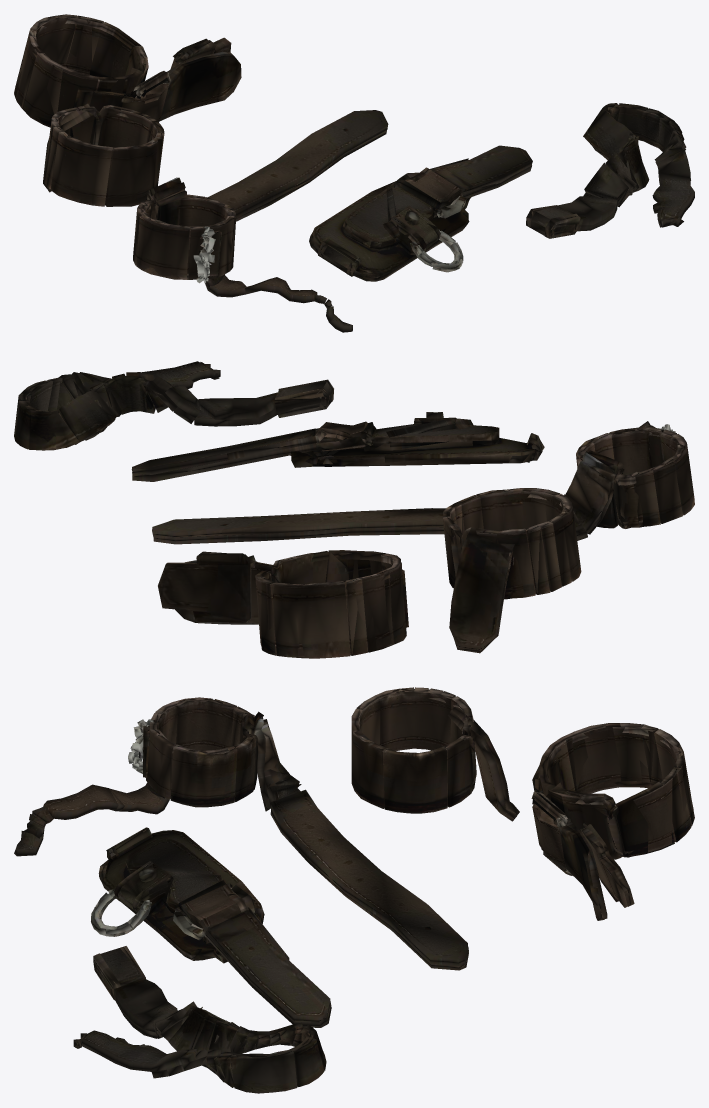
Rendered from Buckles.fbx.
3 views of the same model, one above another, from view 1: azimuth 30°, elevation 25°; view 2: azimuth 150°, elevation 25°; view 3: azimuth 270°, elevation 25° (orthographic). The views are drawn at different scales.
Parts seen in each view (by area): view 1: tripo_node_1e50b65e-f87e-45ac-bf90-cbf67e2db596.005, tripo_node_1e50b65e-f87e-45ac-bf90-cbf67e2db596.001, tripo_node_1e50b65e-f87e-45ac-bf90-cbf67e2db596.004, tripo_node_1e50b65e-f87e-45ac-bf90-cbf67e2db596.003, tripo_node_1e50b65e-f87e-45ac-bf90-cbf67e2db596.002; view 2: tripo_node_1e50b65e-f87e-45ac-bf90-cbf67e2db596.001, tripo_node_1e50b65e-f87e-45ac-bf90-cbf67e2db596.005, tripo_node_1e50b65e-f87e-45ac-bf90-cbf67e2db596.002, tripo_node_1e50b65e-f87e-45ac-bf90-cbf67e2db596.003, tripo_node_1e50b65e-f87e-45ac-bf90-cbf67e2db596.004; view 3: tripo_node_1e50b65e-f87e-45ac-bf90-cbf67e2db596.005, tripo_node_1e50b65e-f87e-45ac-bf90-cbf67e2db596.001, tripo_node_1e50b65e-f87e-45ac-bf90-cbf67e2db596.004, tripo_node_1e50b65e-f87e-45ac-bf90-cbf67e2db596.002, tripo_node_1e50b65e-f87e-45ac-bf90-cbf67e2db596.003.
Boxes of the visible parts, bbox=[...] form: tripo_node_1e50b65e-f87e-45ac-bf90-cbf67e2db596.005: bbox=[133, 110, 388, 332]; tripo_node_1e50b65e-f87e-45ac-bf90-cbf67e2db596.001: bbox=[14, 14, 241, 127]; tripo_node_1e50b65e-f87e-45ac-bf90-cbf67e2db596.004: bbox=[309, 145, 532, 281]; tripo_node_1e50b65e-f87e-45ac-bf90-cbf67e2db596.003: bbox=[526, 103, 694, 238]; tripo_node_1e50b65e-f87e-45ac-bf90-cbf67e2db596.002: bbox=[43, 103, 164, 206]; tripo_node_1e50b65e-f87e-45ac-bf90-cbf67e2db596.001: bbox=[158, 550, 408, 658]; tripo_node_1e50b65e-f87e-45ac-bf90-cbf67e2db596.005: bbox=[152, 421, 694, 544]; tripo_node_1e50b65e-f87e-45ac-bf90-cbf67e2db596.002: bbox=[442, 488, 581, 653]; tripo_node_1e50b65e-f87e-45ac-bf90-cbf67e2db596.003: bbox=[14, 361, 333, 450]; tripo_node_1e50b65e-f87e-45ac-bf90-cbf67e2db596.004: bbox=[131, 412, 544, 481]; tripo_node_1e50b65e-f87e-45ac-bf90-cbf67e2db596.005: bbox=[14, 697, 468, 970]; tripo_node_1e50b65e-f87e-45ac-bf90-cbf67e2db596.001: bbox=[531, 723, 694, 920]; tripo_node_1e50b65e-f87e-45ac-bf90-cbf67e2db596.004: bbox=[91, 827, 331, 1027]; tripo_node_1e50b65e-f87e-45ac-bf90-cbf67e2db596.002: bbox=[351, 687, 519, 821]; tripo_node_1e50b65e-f87e-45ac-bf90-cbf67e2db596.003: bbox=[73, 946, 326, 1093].
Size of the model in its own units: 101 by 18.03 by 95.71.
1 material, 1 textured.
